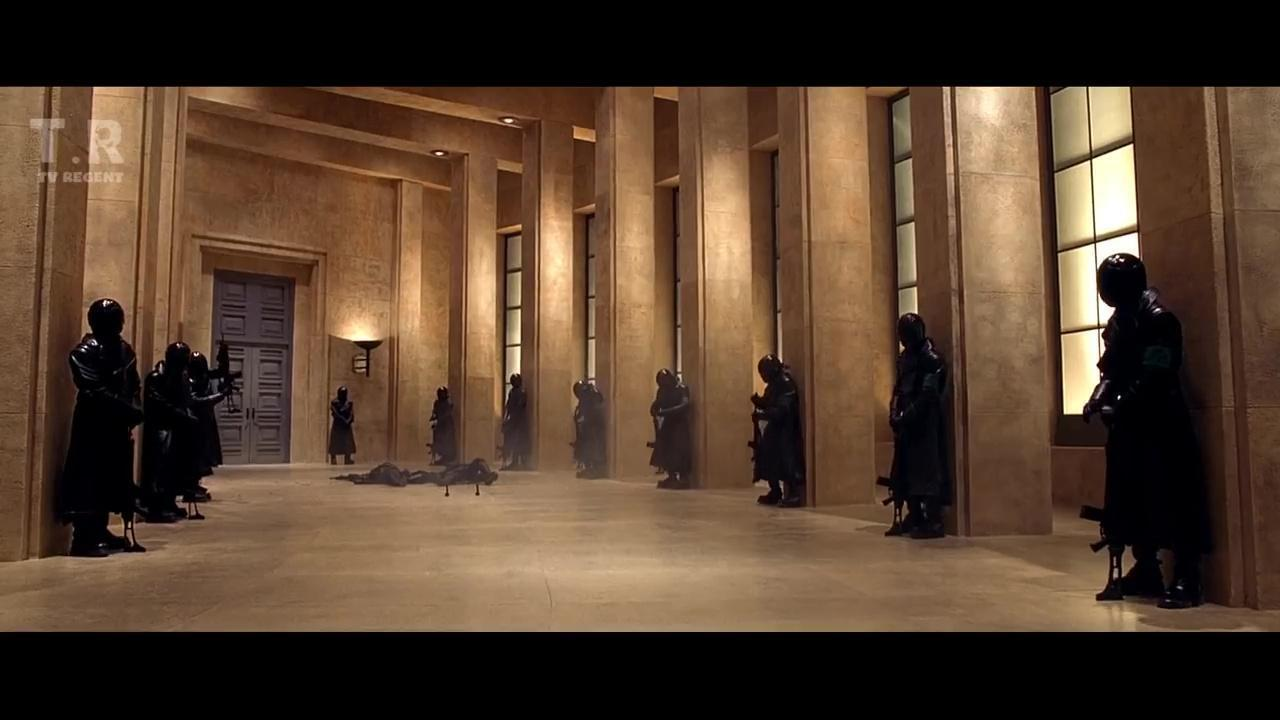Gun: (1078, 404, 1127, 601), (869, 411, 909, 532), (740, 408, 779, 493), (213, 329, 245, 416), (638, 412, 673, 488), (116, 476, 148, 557), (490, 420, 516, 471), (564, 418, 586, 476), (186, 470, 203, 522), (424, 426, 444, 467)
